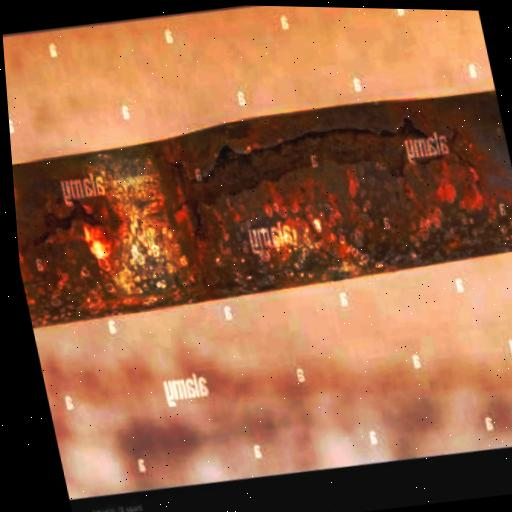corrosion: (6, 76, 512, 335)
